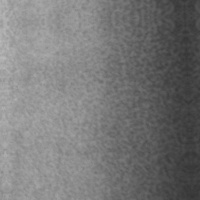pitted_surface: (74, 18, 190, 199)
